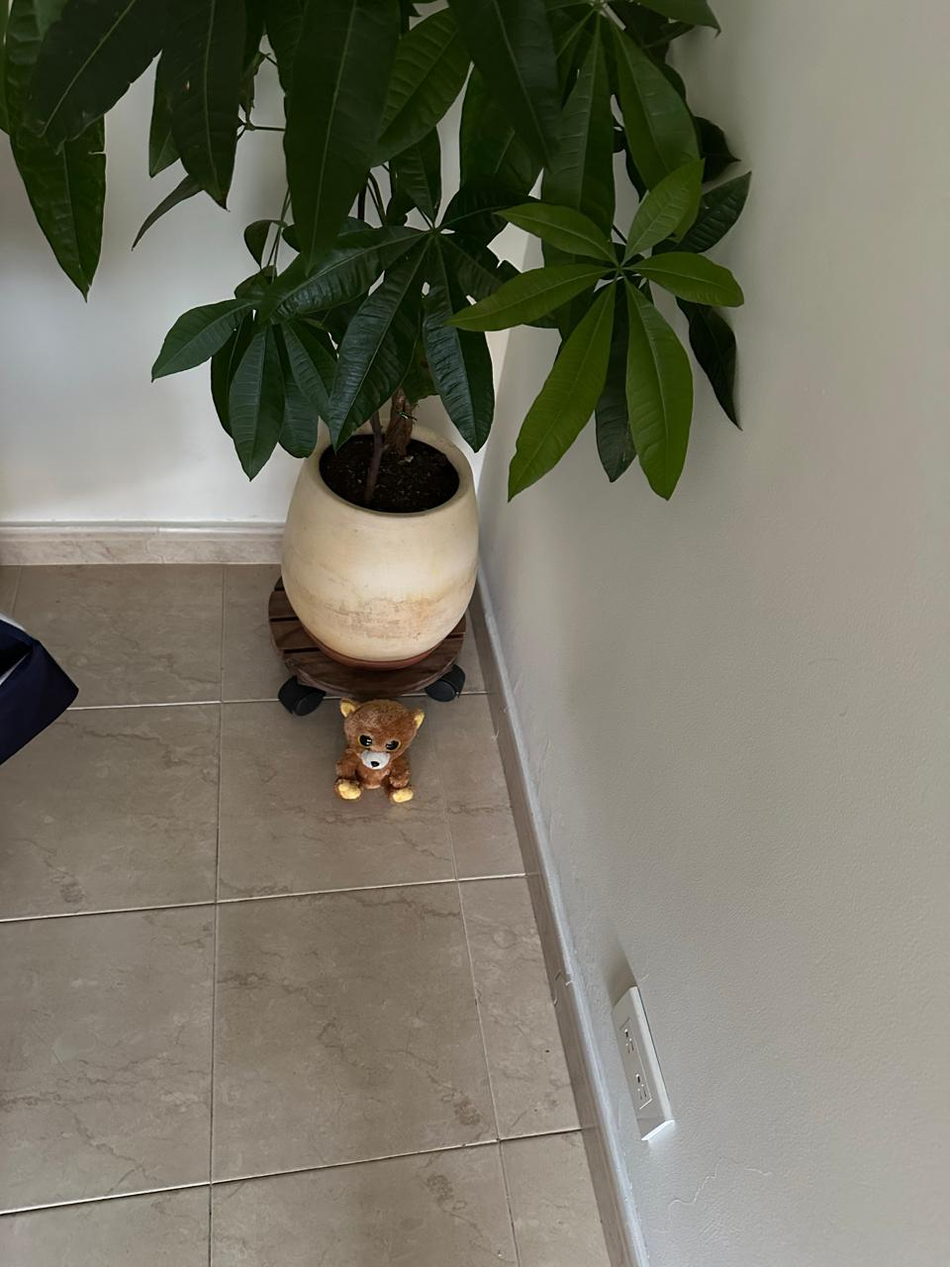peluche_sebastian: (334, 698, 426, 812)
